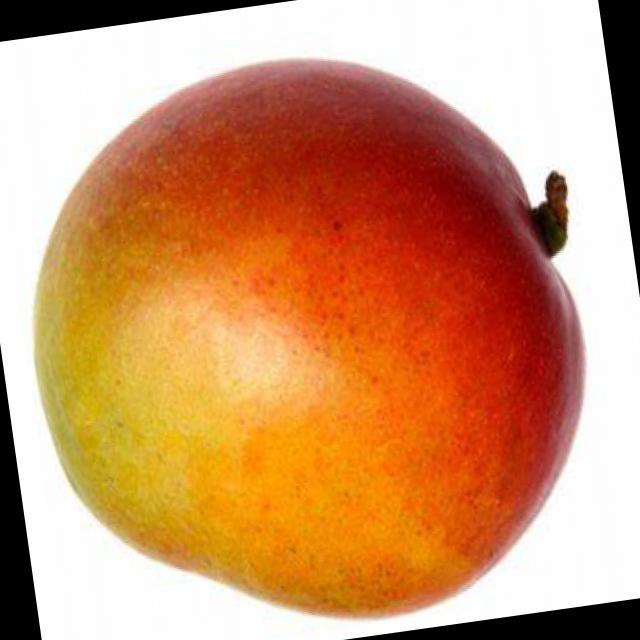mango: (36, 62, 584, 616)
